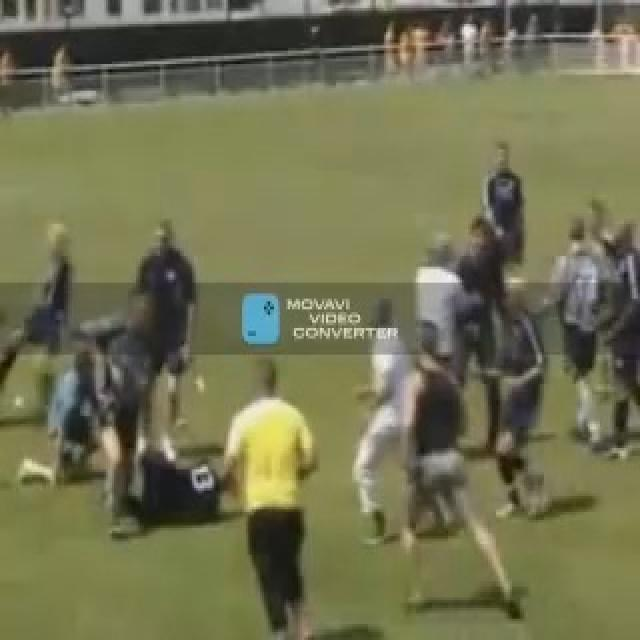non-voilence: (0, 139, 638, 632), (352, 139, 638, 621), (396, 317, 522, 619), (218, 355, 320, 637)
